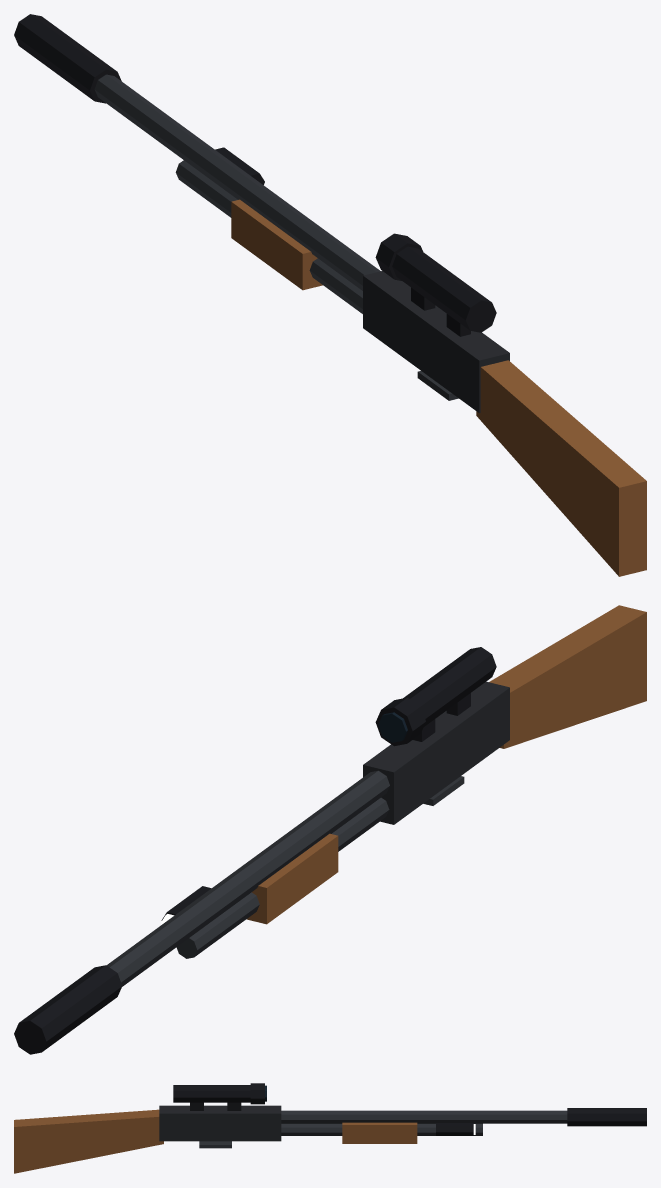
Rendered from wpn_shotgun.glb.
The picture shows the model from 3 angles, top to bottom: view 1: azimuth 30°, elevation 25°; view 2: azimuth 150°, elevation 25°; view 3: azimuth 270°, elevation 25°; orthographic projection. The views are drawn at different scales.
Visible parts, largest first — view 1: wpn_shotgun__body, wpn_shotgun__att_scope, wpn_shotgun__att_suppressor; view 2: wpn_shotgun__body, wpn_shotgun__att_scope, wpn_shotgun__att_suppressor; view 3: wpn_shotgun__body, wpn_shotgun__att_scope, wpn_shotgun__att_suppressor, wpn_shotgun__att_flashlight.
Boxes of the visible parts, x1=… form: wpn_shotgun__body: x1=94, y1=74, x2=646, y2=576; wpn_shotgun__att_scope: x1=375, y1=233, x2=496, y2=336; wpn_shotgun__att_suppressor: x1=14, y1=14, x2=121, y2=103; wpn_shotgun__body: x1=106, y1=605, x2=646, y2=986; wpn_shotgun__att_scope: x1=375, y1=647, x2=496, y2=746; wpn_shotgun__att_suppressor: x1=14, y1=965, x2=122, y2=1054; wpn_shotgun__body: x1=14, y1=1105, x2=567, y2=1173; wpn_shotgun__att_scope: x1=173, y1=1083, x2=266, y2=1110; wpn_shotgun__att_suppressor: x1=567, y1=1108, x2=646, y2=1126; wpn_shotgun__att_flashlight: x1=436, y1=1123, x2=475, y2=1135.
Size of the model in its own units: 0.068 by 0.204 by 1.35.
